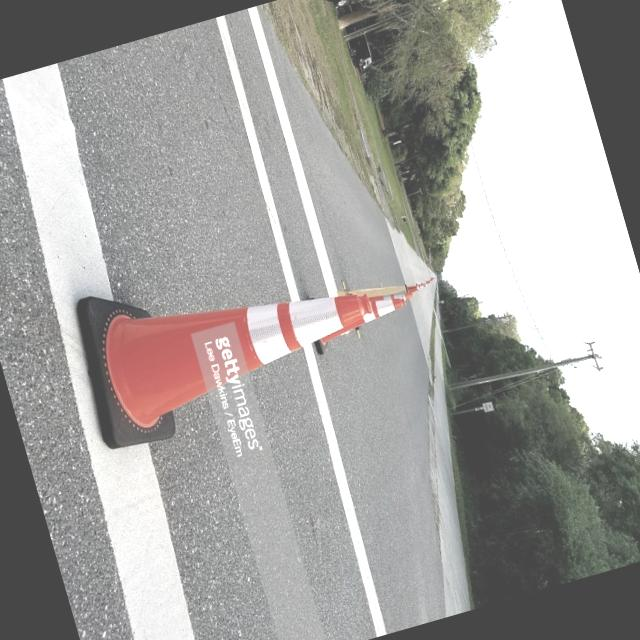cone: (67, 232, 393, 461)
